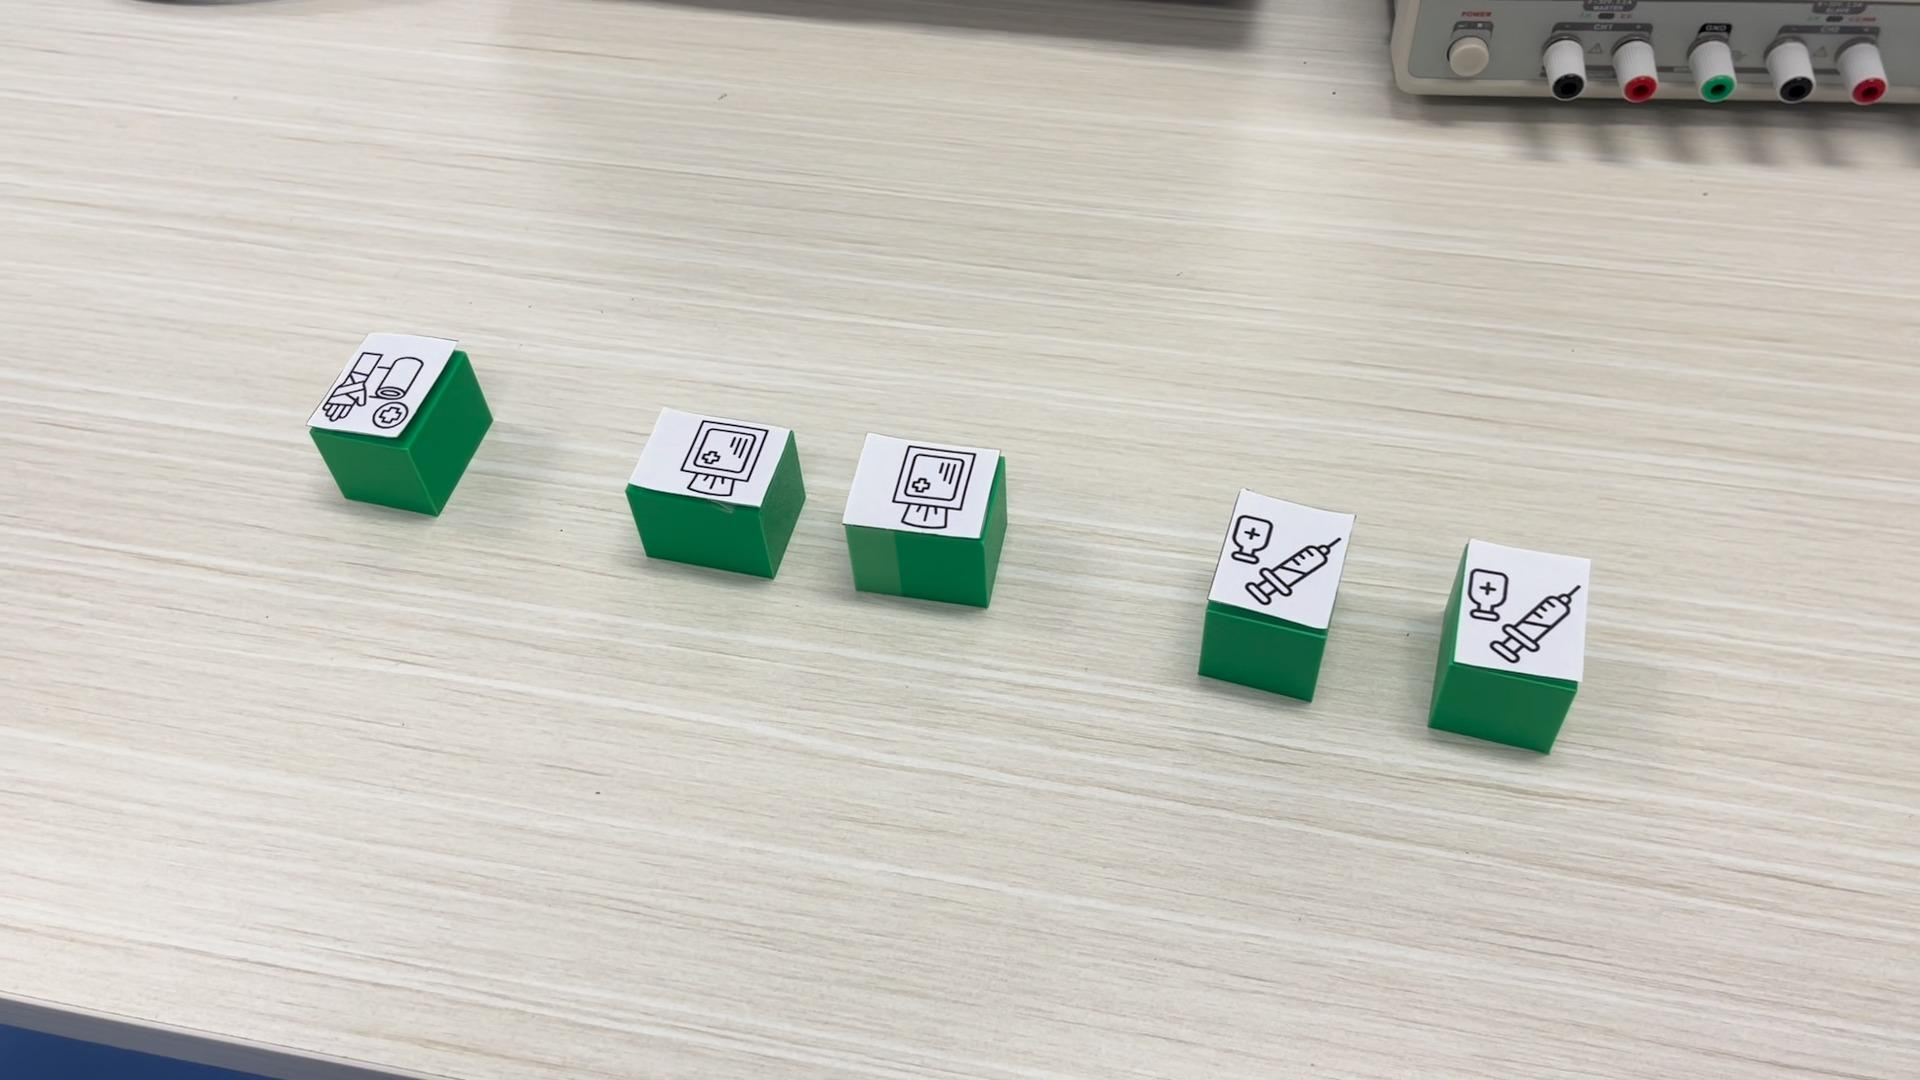Bandages: (307, 328, 492, 517)
Gauze: (624, 405, 806, 579), (840, 430, 1007, 608)
antiseptic cream: (1427, 538, 1589, 754), (1196, 488, 1352, 702)
